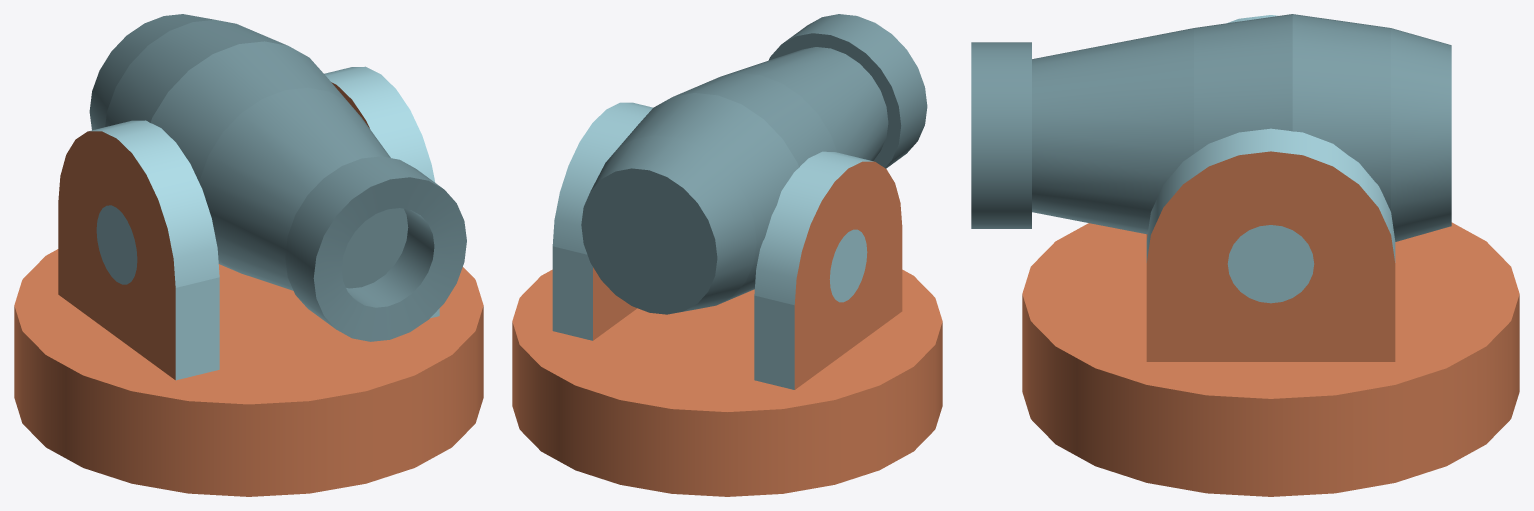
The model's file is weapon_cannon.fbx.
3 renders of one model, left to right at view 1: azimuth 30°, elevation 25°; view 2: azimuth 150°, elevation 25°; view 3: azimuth 270°, elevation 25°, orthographic. The views are drawn at different scales.
Visible parts, largest first — view 1: weapon_cannon, cannon; view 2: weapon_cannon, cannon; view 3: weapon_cannon, cannon.
Boxes of the visible parts, bbox=[...] form: weapon_cannon: bbox=[14, 66, 483, 496]; cannon: bbox=[89, 14, 466, 341]; weapon_cannon: bbox=[512, 102, 942, 496]; cannon: bbox=[581, 14, 927, 314]; weapon_cannon: bbox=[1022, 15, 1519, 496]; cannon: bbox=[971, 14, 1451, 241].
Bounding box in the file's own units: 4.6 × 3.74 × 5.07.
